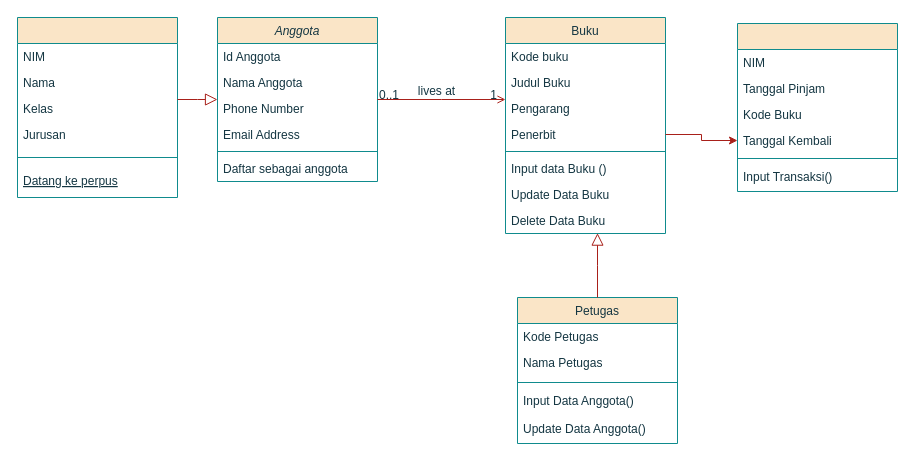
Image size: 915x464. Some labels were removed from this diagram. The shapes that lost their labels are listed below. From the top down, each one's box as (x1, y1, x2, y2) in pixels, then its label:
(16, 16, 178, 198): Student
(736, 22, 898, 192): Peminjaman
